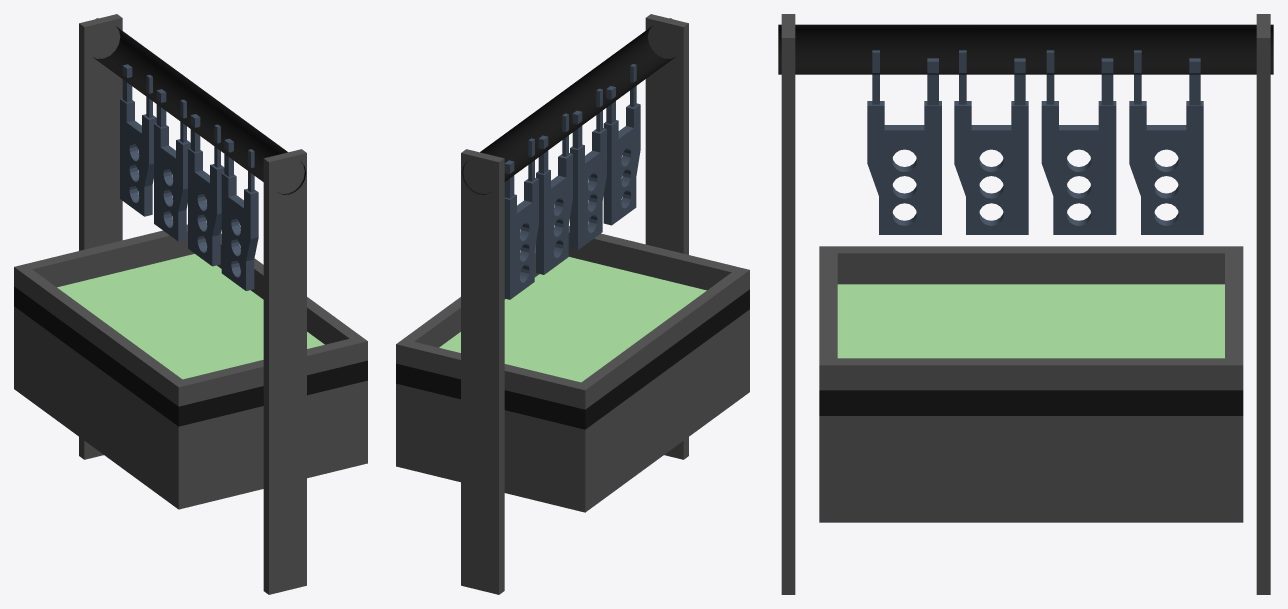
The model's file is halvanic_scene_model_1.gltf.
3 renders of one model, left to right at view 1: azimuth 30°, elevation 25°; view 2: azimuth 150°, elevation 25°; view 3: azimuth 270°, elevation 25°, orthographic. The views are drawn at different scales.
Visible parts, largest first — view 1: Куб, Куб.006; view 2: Куб, Куб.006; view 3: Куб, Куб.006.
Part boxes in pixels (<box>): Куб: <box>14,224,367,509</box>; Куб.006: <box>79,14,306,594</box>; Куб: <box>396,226,749,512</box>; Куб.006: <box>461,14,688,594</box>; Куб: <box>819,246,1243,522</box>; Куб.006: <box>778,14,1273,594</box>.
Bounding box in the file's own units: 11.22 × 24.51 × 19.77.
